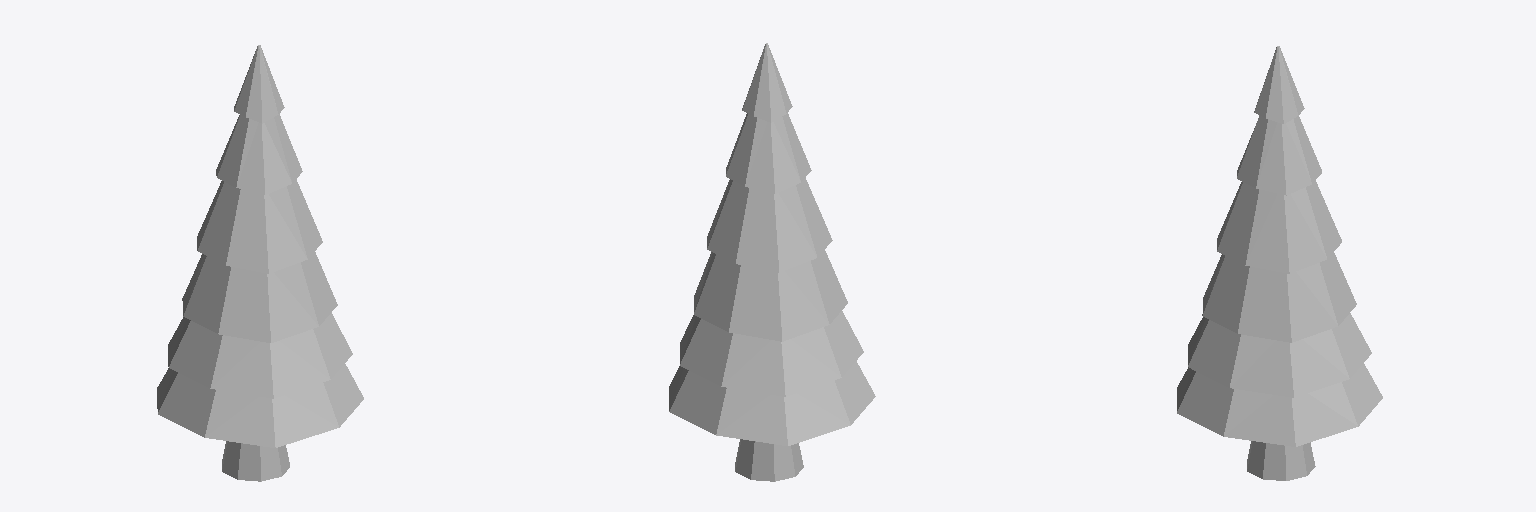
The model's file is lowpolypinetree.obj.
3 renders of one model, left to right at view 1: azimuth 30°, elevation 25°; view 2: azimuth 150°, elevation 25°; view 3: azimuth 270°, elevation 25°, orthographic.
Parts seen in each view (by area): view 1: Cylinder; view 2: Cylinder; view 3: Cylinder.
Part boxes in pixels (x1,y1,x2,y2): Cylinder: (157,45,363,481); Cylinder: (669,43,875,481); Cylinder: (1177,46,1382,480).
Size of the model in its own units: 1.05 by 2.34 by 1.04.